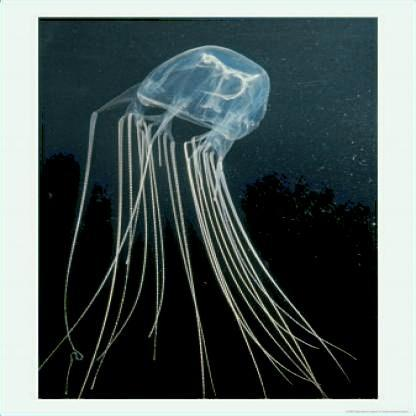FriedEggs: (66, 45, 334, 383)
